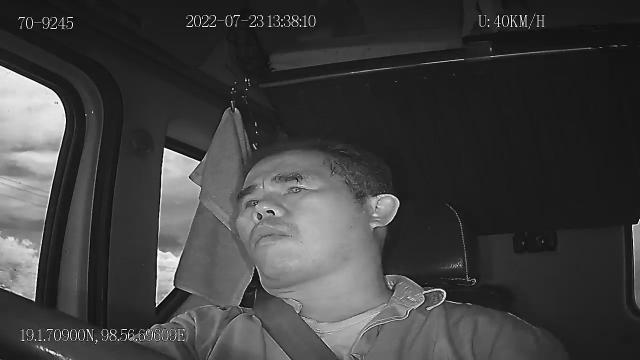SafeDriving: (273, 168, 319, 200)
Seatbelt: (252, 296, 336, 360)
